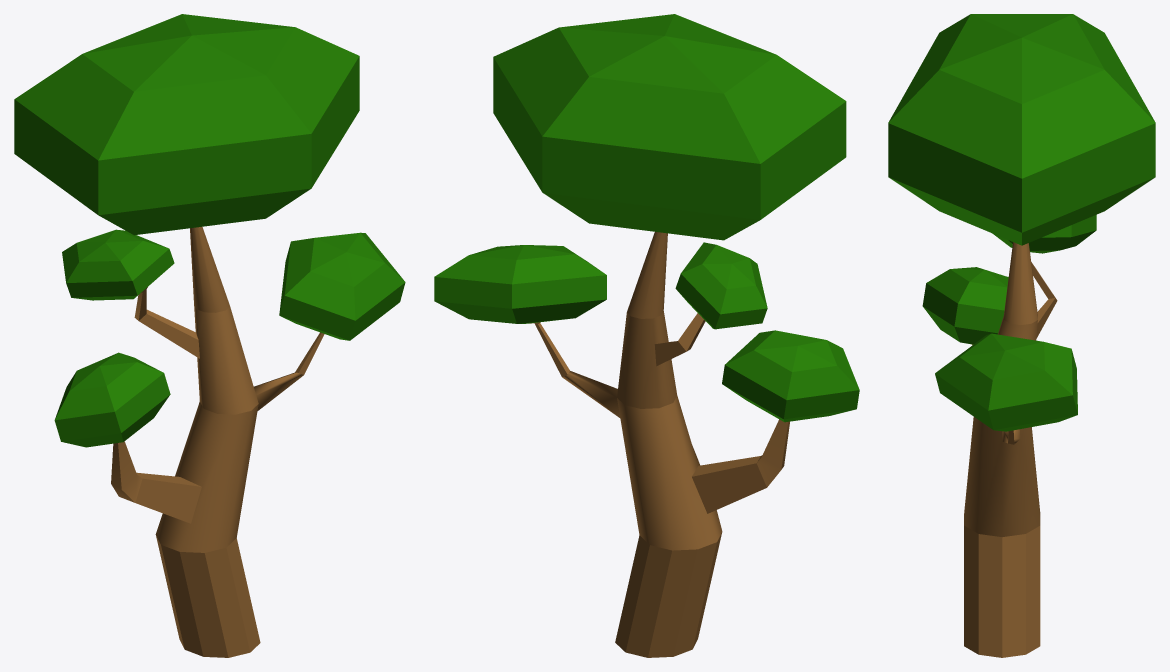
The model's file is Tree.fbx.
The picture shows the model from 3 angles, left to right: view 1: azimuth 30°, elevation 25°; view 2: azimuth 150°, elevation 25°; view 3: azimuth 270°, elevation 25°; orthographic projection. The views are drawn at different scales.
Parts seen in each view (by area): view 1: Tree; view 2: Tree; view 3: Tree.
Boxes of the visible parts, x1,y1,x2,y2 form: Tree: (14,14,405,657); Tree: (434,14,859,657); Tree: (888,14,1155,657).
Bounding box in the file's own units: 10.3 × 16.32 × 6.66.
